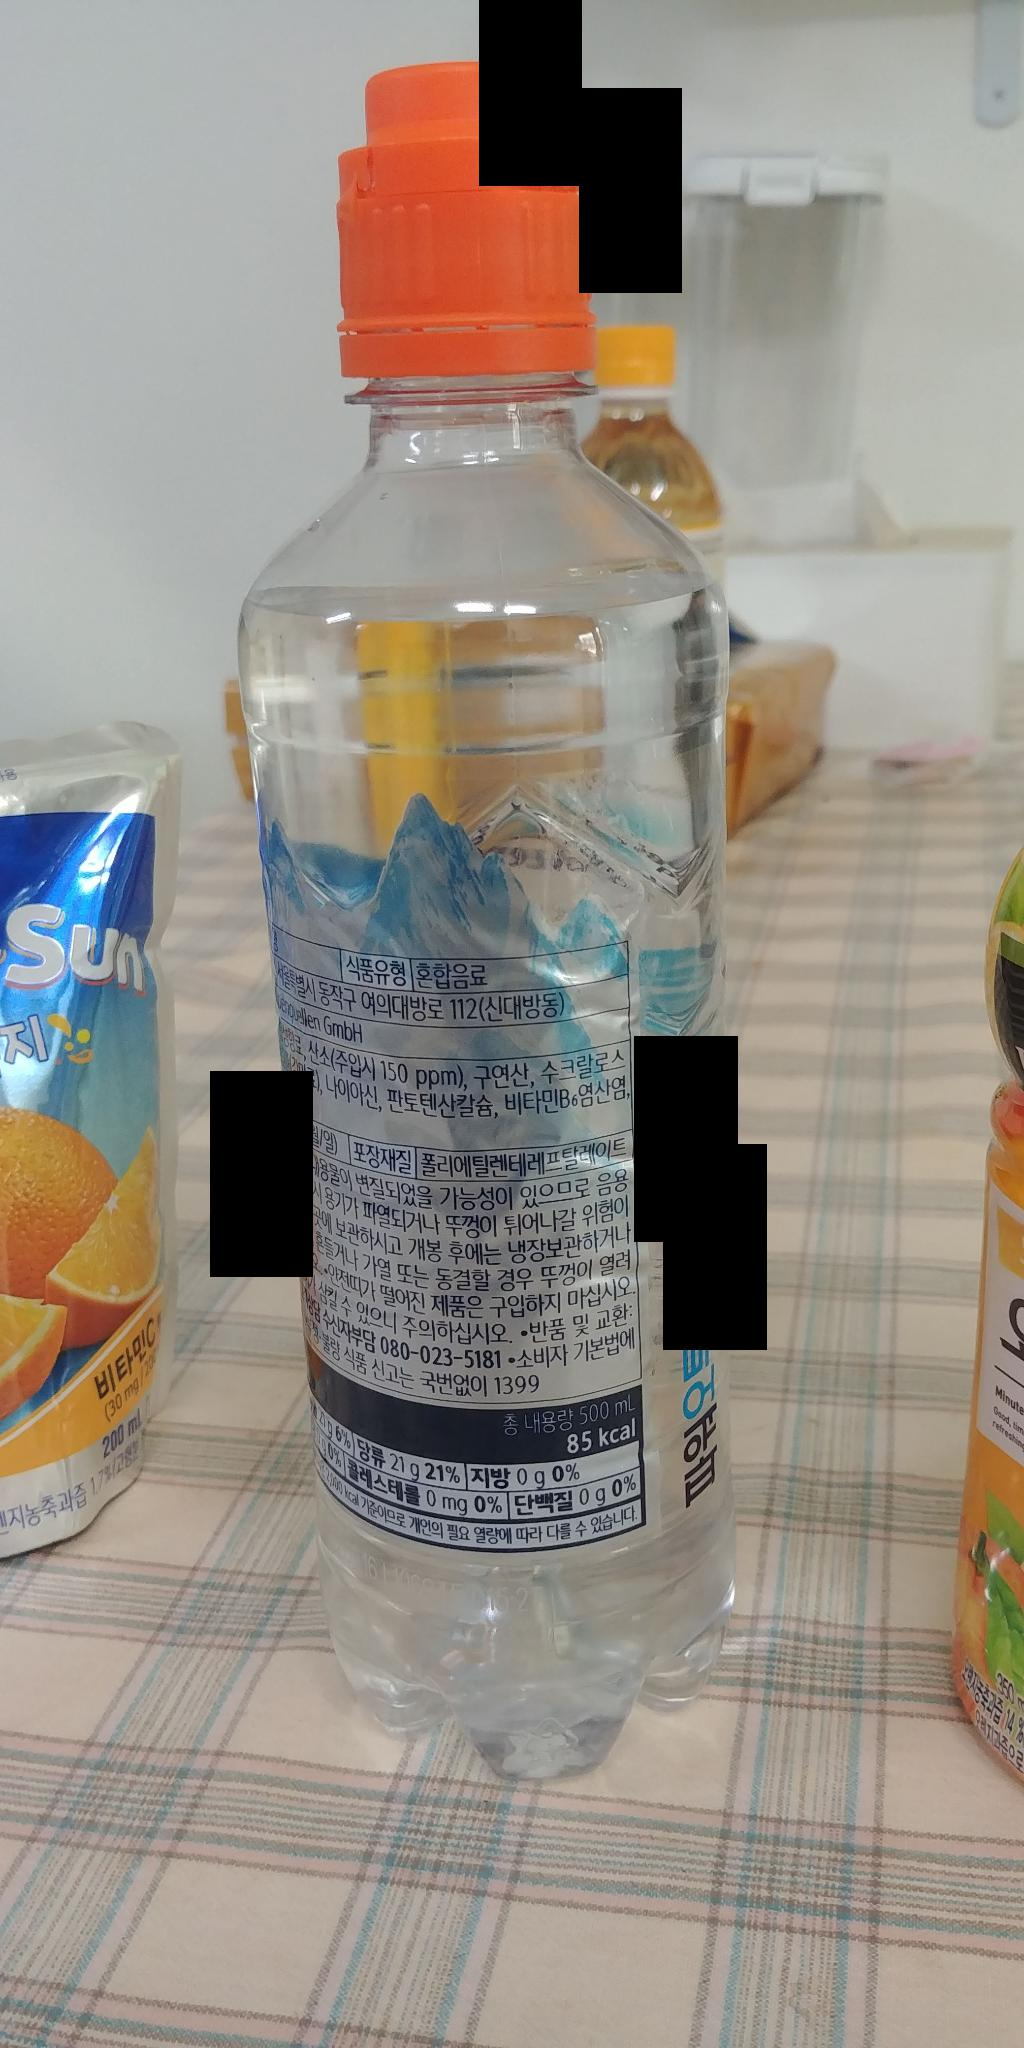powerO2_orange: (206, 46, 767, 1806)
